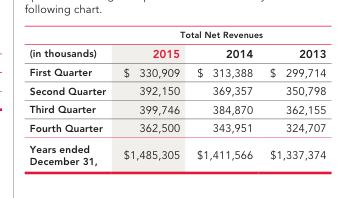table: (28, 28, 325, 166)
table column: (28, 28, 113, 166), (113, 28, 187, 166), (187, 28, 260, 166), (260, 28, 325, 166)
table column header: (28, 28, 325, 62)
table row: (28, 138, 325, 166), (28, 42, 325, 62), (28, 118, 325, 138), (28, 62, 325, 81), (28, 81, 325, 100), (28, 100, 325, 118), (28, 28, 325, 42)
table spanning cell: (113, 28, 325, 42), (28, 28, 113, 62)
